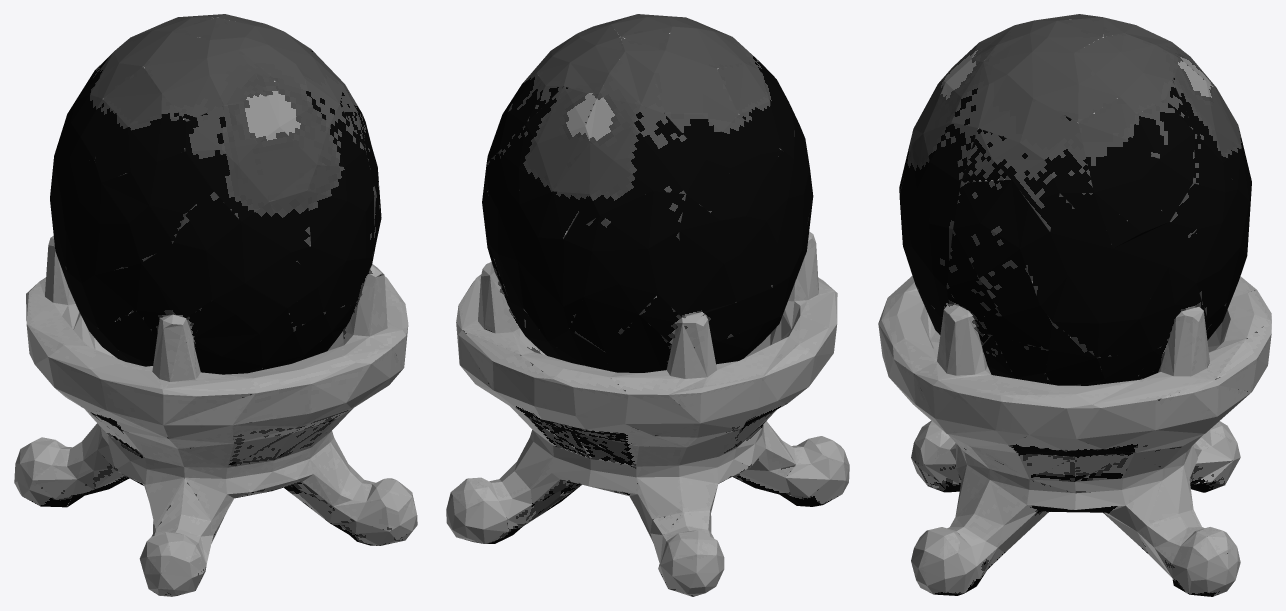
3 views of the same model, side by side, from view 1: azimuth 30°, elevation 25°; view 2: azimuth 150°, elevation 25°; view 3: azimuth 270°, elevation 25° (orthographic). The views are drawn at different scales.
Visible parts, largest first — view 1: OBJ117; view 2: OBJ117; view 3: OBJ117.
Part boxes in pixels (x1,y1,x2,y2): OBJ117: (14, 14, 417, 596); OBJ117: (446, 14, 849, 596); OBJ117: (878, 14, 1271, 596).
Size of the model in its own units: 0.2431 by 0.3423 by 0.2392.
Materials: 1 (1 with a texture image).
